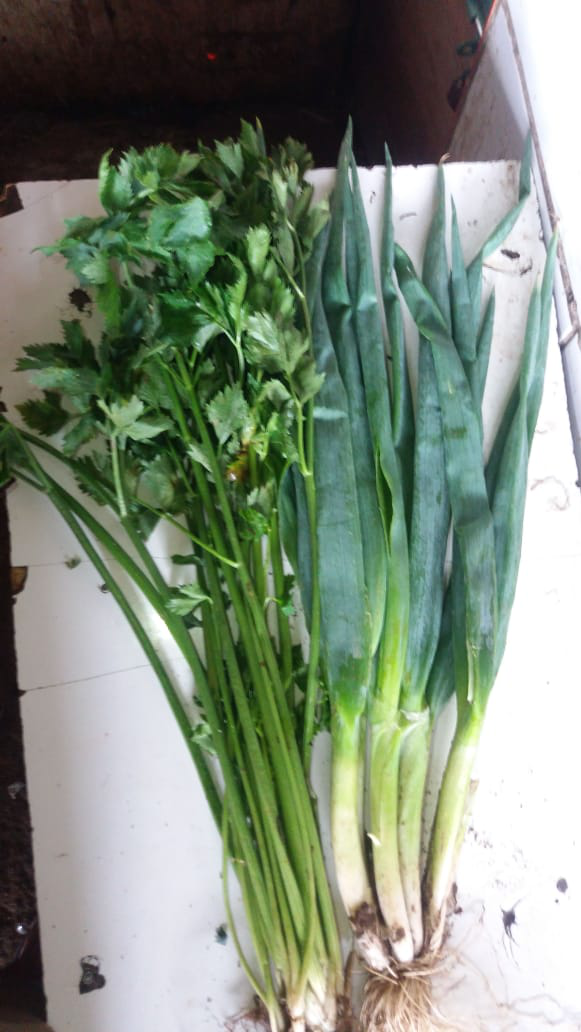Seledri: (55, 137, 581, 1018)
